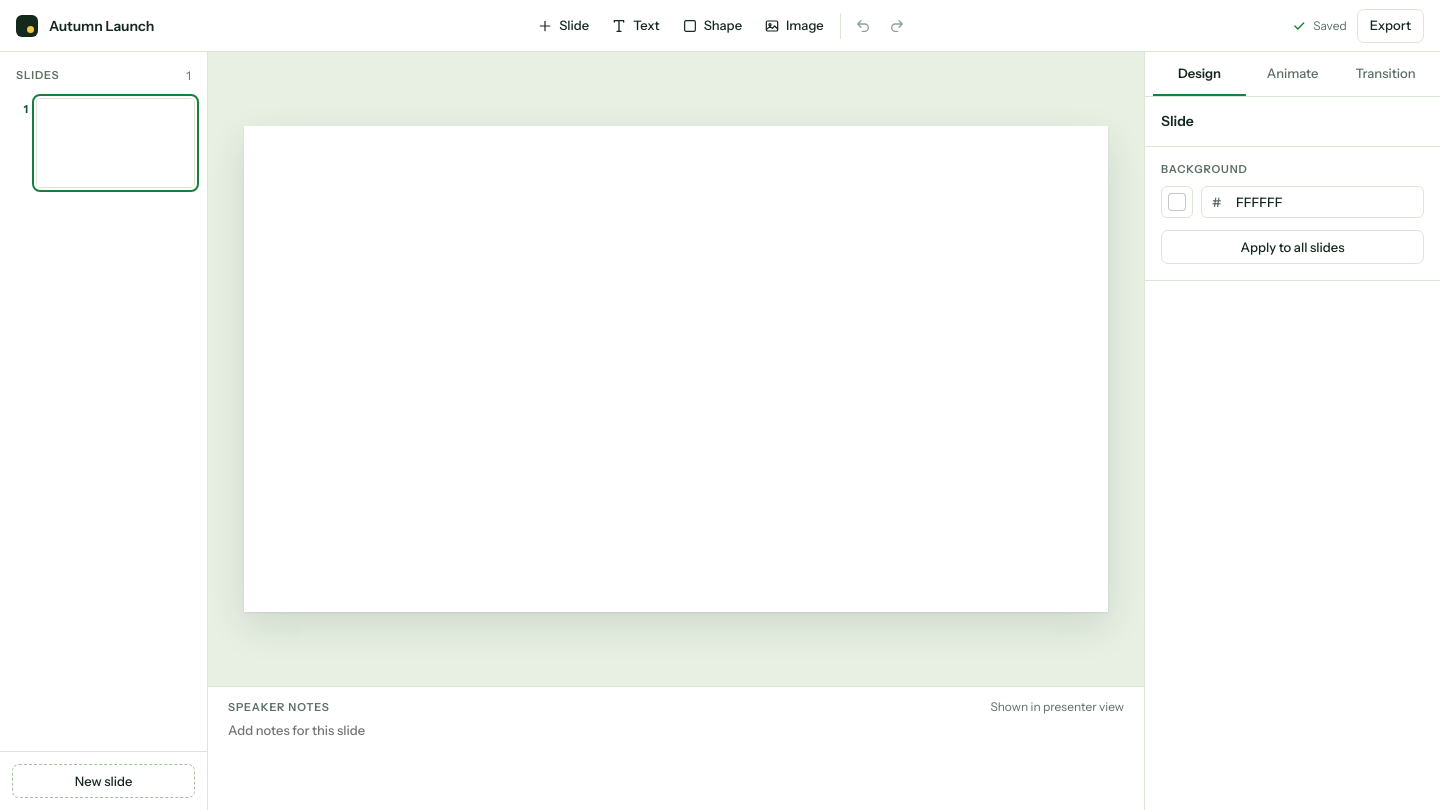
Test: Given a save that fails because the store is full, When it happens, Then a banner says changes cannot be saved and the edit stays on screen
Check: the option named "Slide 1" is shown, box [12,98,195,188]
Click the button with aria-label "Add slide" at (563, 26), box [527,10,599,42]
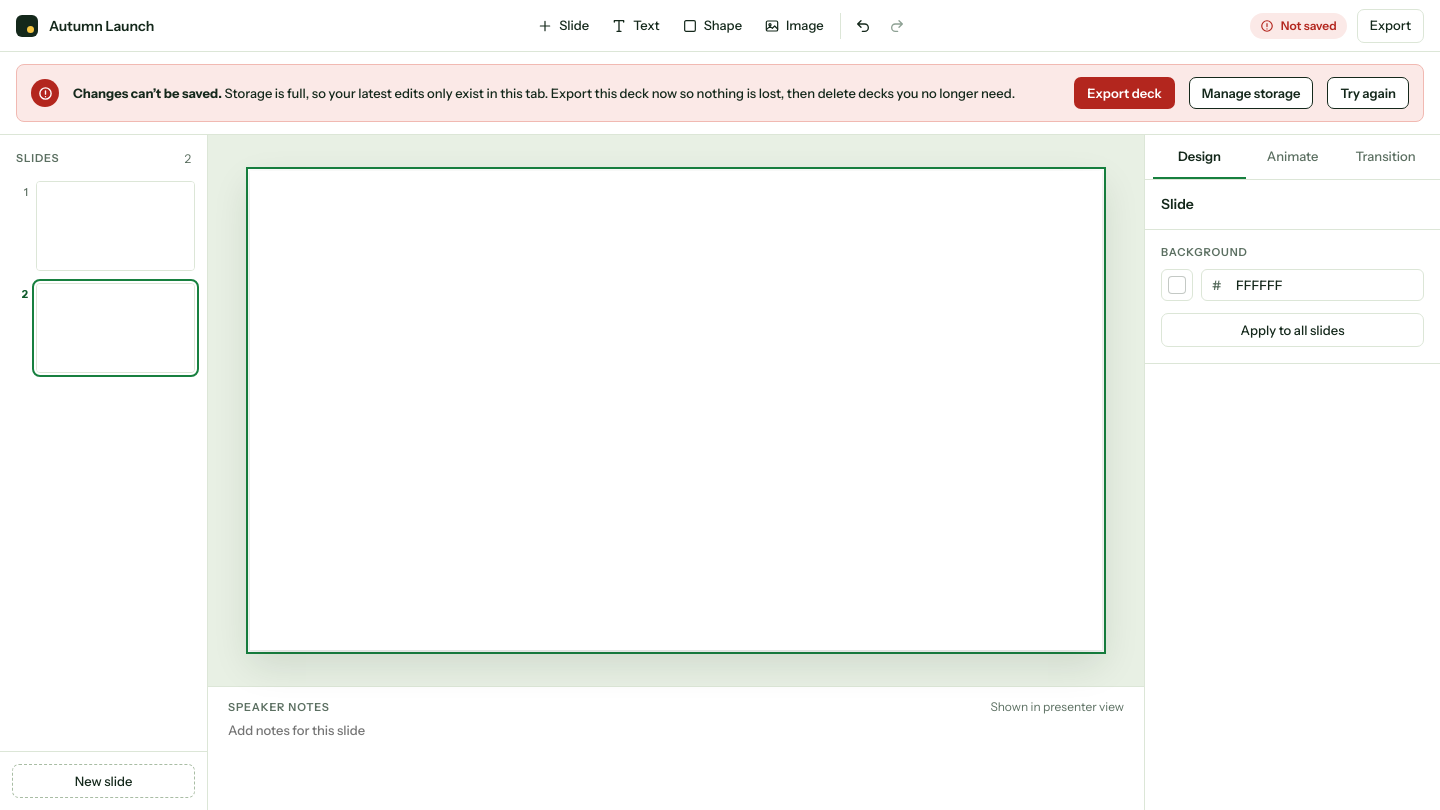
Check: the text "Not saved" is shown, box [1250,12,1347,38]
